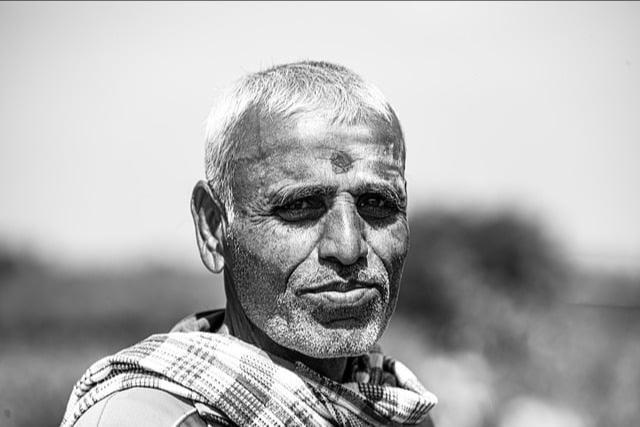Non_Gorille: (34, 25, 548, 427)
